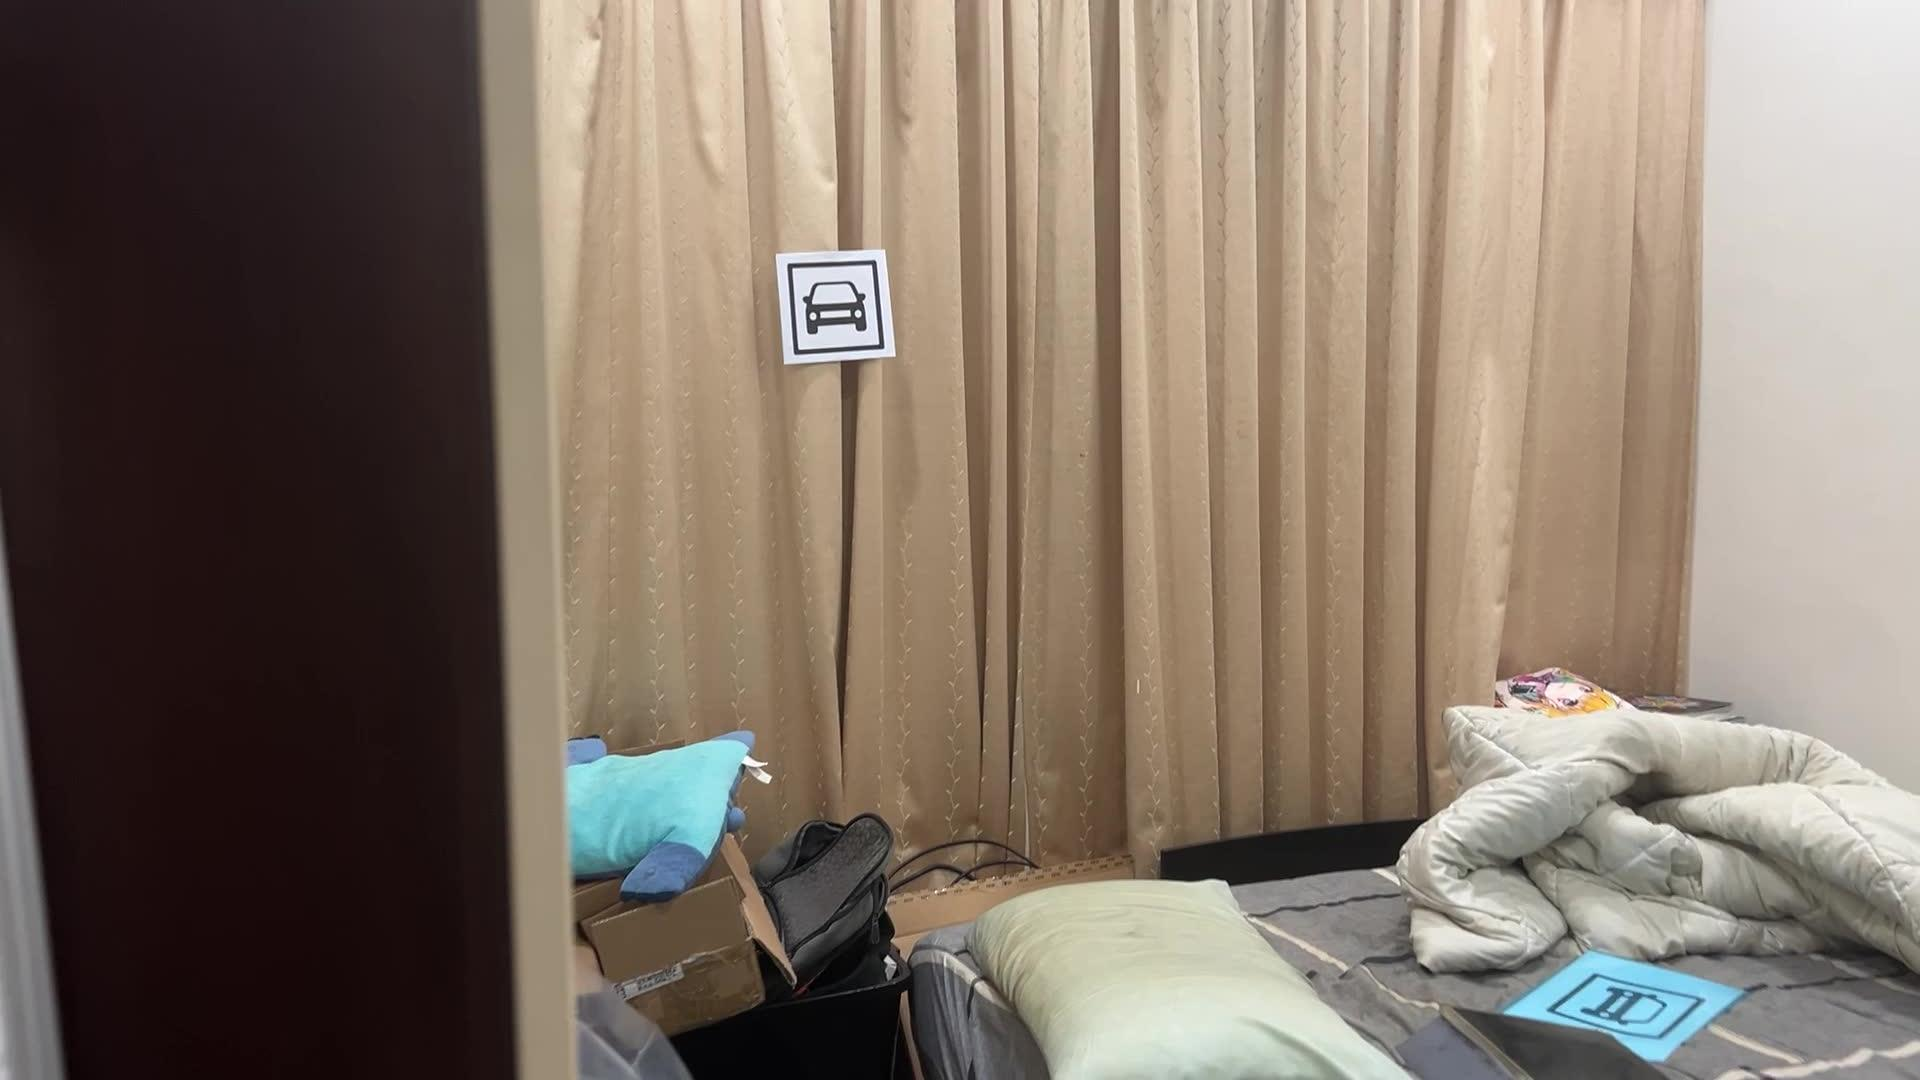car_img: (786, 260, 885, 356)
